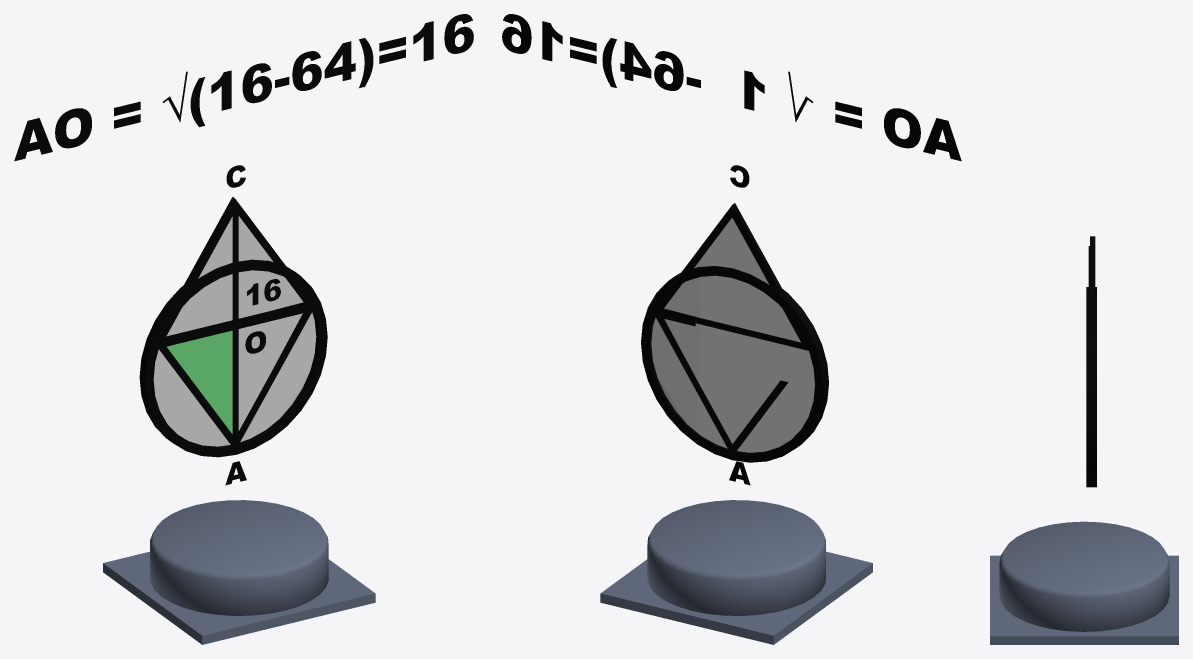
The picture shows the model from 3 angles, left to right: view 1: azimuth 30°, elevation 25°; view 2: azimuth 150°, elevation 25°; view 3: azimuth 270°, elevation 25°; orthographic projection. The views are drawn at different scales.
Visible parts, largest first — view 1: Cube.002, Cylinder, Text.007, Cube, Circle, Cone.001, Cone, Cube.001; view 2: Cube.002, Cylinder, Text.007, Cube, Circle, Cone, Cone.001; view 3: Cylinder, Cube, Circle, Cone.
Part boxes in pixels (bbox=[...]): Cube.002: bbox=[153, 216, 316, 446]; Cylinder: bbox=[150, 500, 328, 615]; Text.007: bbox=[14, 14, 473, 161]; Cube: bbox=[103, 551, 375, 644]; Circle: bbox=[139, 259, 327, 457]; Cone.001: bbox=[159, 305, 312, 444]; Cone: bbox=[162, 197, 310, 340]; Cube.001: bbox=[232, 209, 238, 444]; Cube.002: bbox=[651, 218, 814, 452]; Cylinder: bbox=[647, 500, 825, 615]; Text.007: bbox=[502, 14, 961, 161]; Cube: bbox=[600, 551, 872, 644]; Circle: bbox=[641, 266, 828, 462]; Cone: bbox=[656, 203, 808, 350]; Cone.001: bbox=[655, 313, 787, 450]; Cylinder: bbox=[999, 521, 1169, 631]; Cube: bbox=[990, 555, 1178, 644]; Circle: bbox=[1086, 287, 1096, 487]; Cone: bbox=[1090, 236, 1095, 337].
Bounding box in the file's own units: 24.29 × 26.68 × 9.09.
